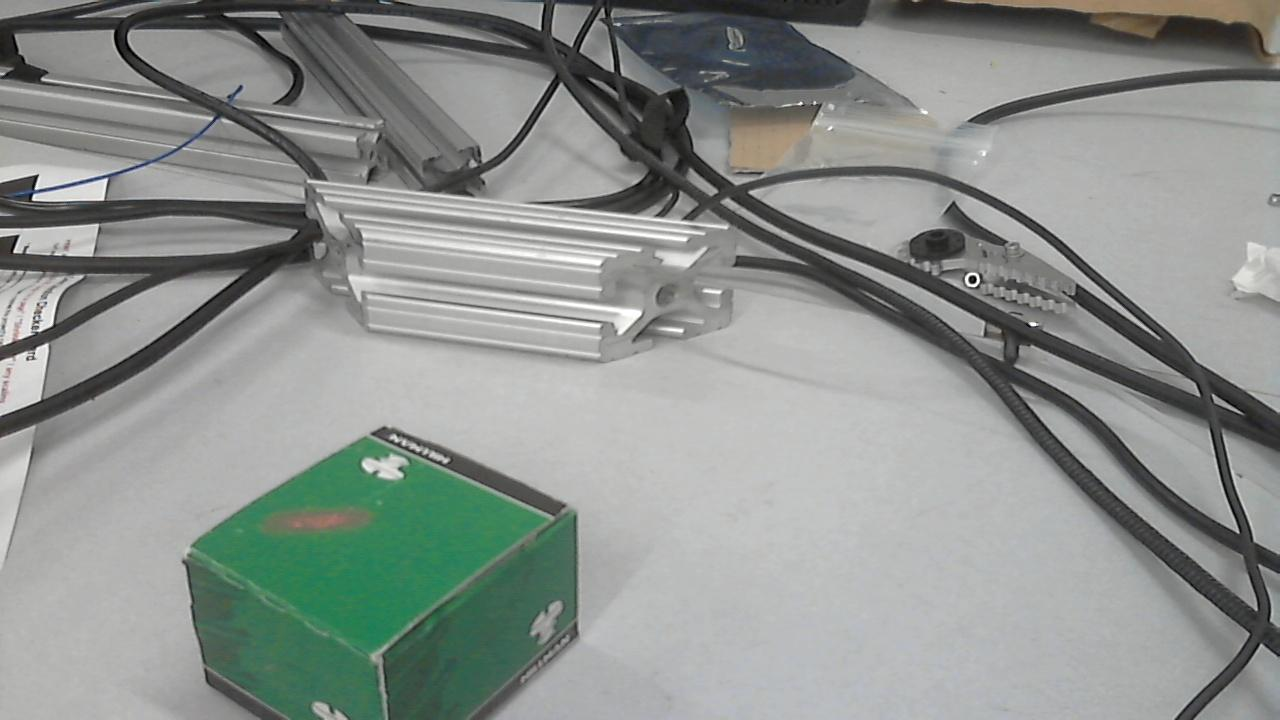Object toy football - Material foam - Color blue - Pdfname VT1ffZoLOnKv: (252, 490, 402, 540)
